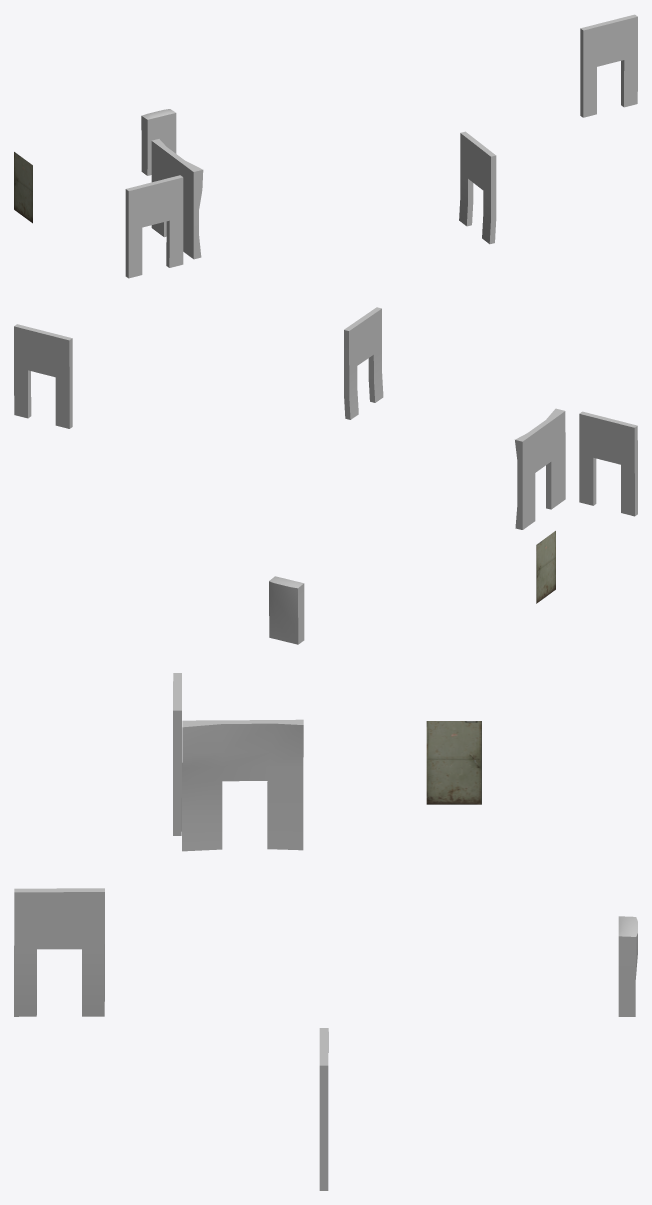
File: Corridor_01_02.fbx
The picture shows the model from 3 angles, top to bottom: view 1: azimuth 30°, elevation 25°; view 2: azimuth 150°, elevation 25°; view 3: azimuth 270°, elevation 25°; orthographic projection. The views are drawn at different scales.
Visible parts, largest first — view 1: Corridor_01_02; view 2: Corridor_01_02; view 3: Corridor_01_02.
Part boxes in pixels (box(x1,y1,x2,y2)): Corridor_01_02: box(14, 14, 637, 278); Corridor_01_02: box(14, 307, 637, 644); Corridor_01_02: box(14, 673, 637, 1190).
Bounding box in the file's own units: 3761 × 894 × 2489.
